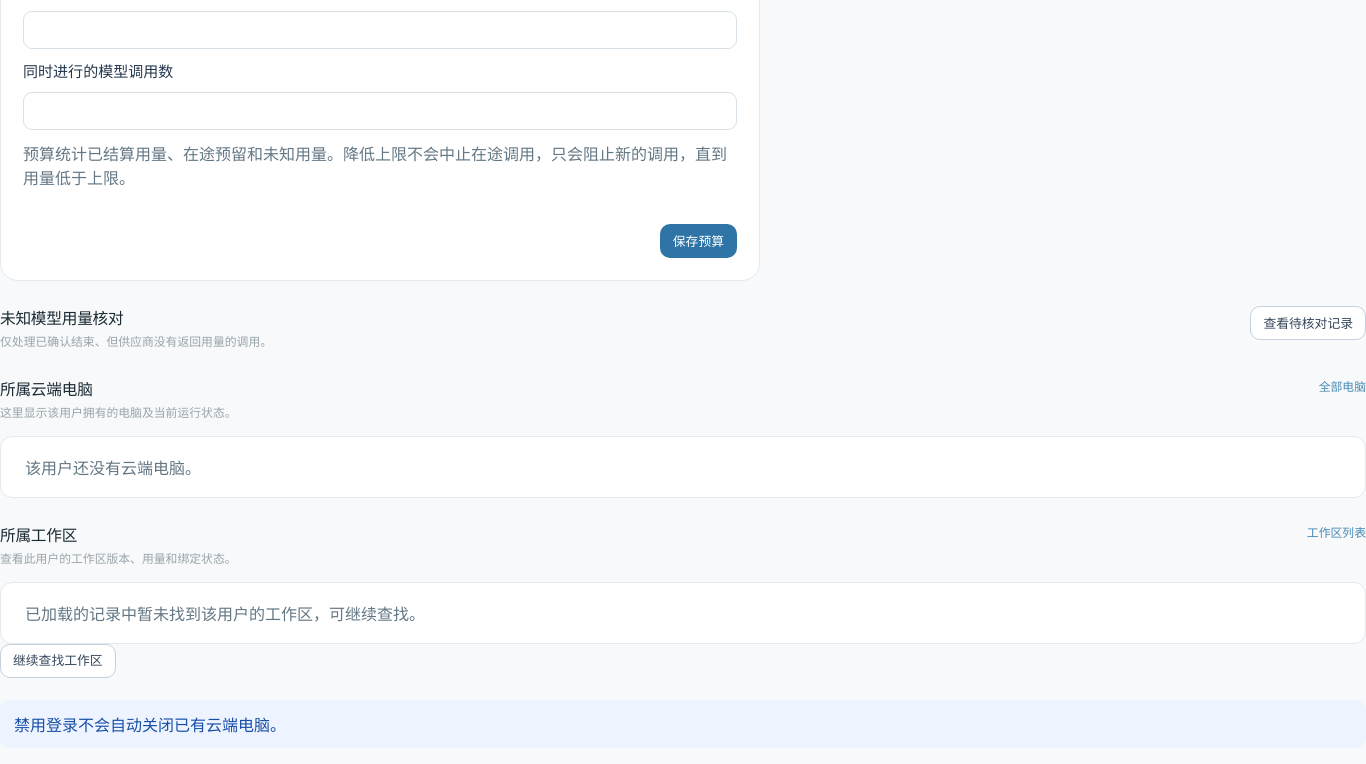
Test case: admin workspaces › shows the user workspace metadata and finds it across pages
(page scrolled)
Expected: the text "已加载的记录中暂未找到该用户的工作区，可继续查找。" is shown, [25, 604, 425, 624]
Click the button "继续查找工作区" at point(58, 661), box [0, 644, 116, 678]
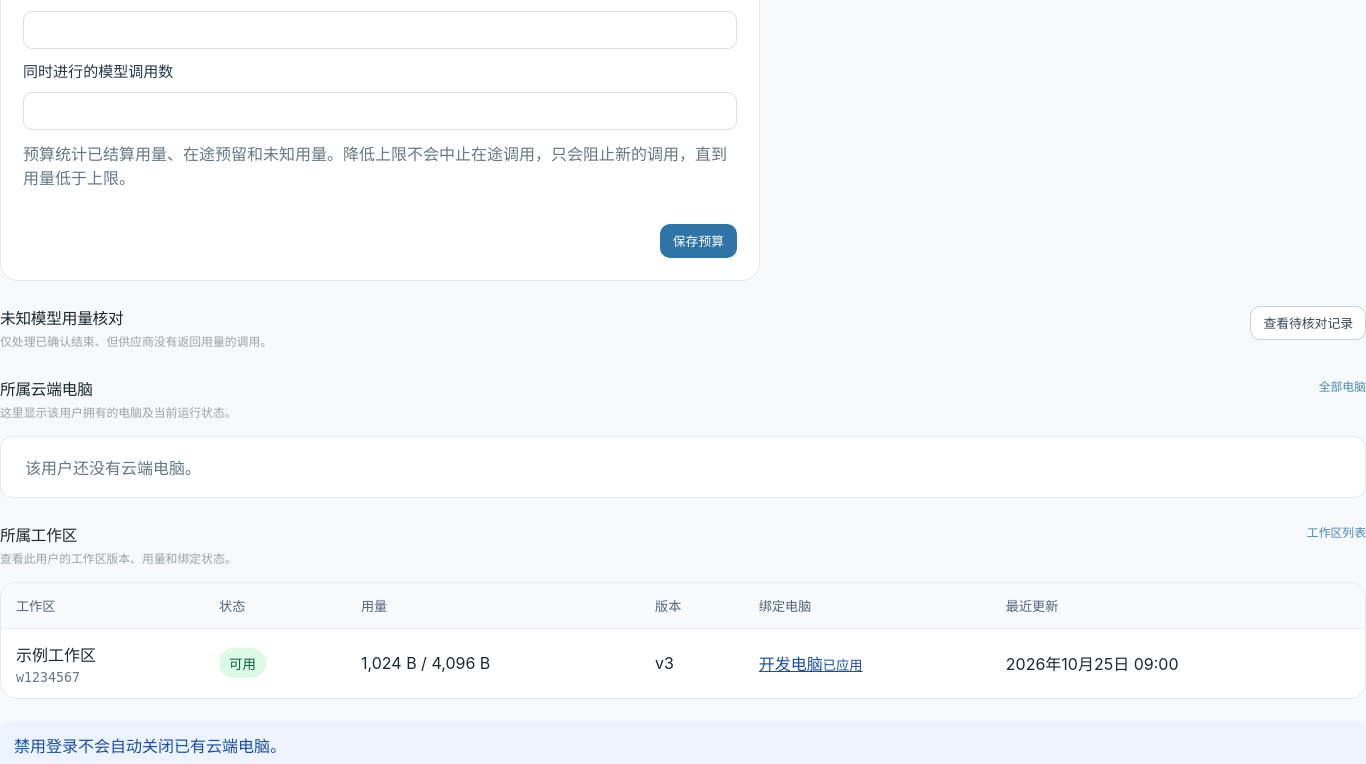
Result: the row that starts with "示例工作区" is shown at [1, 628, 1365, 698]
